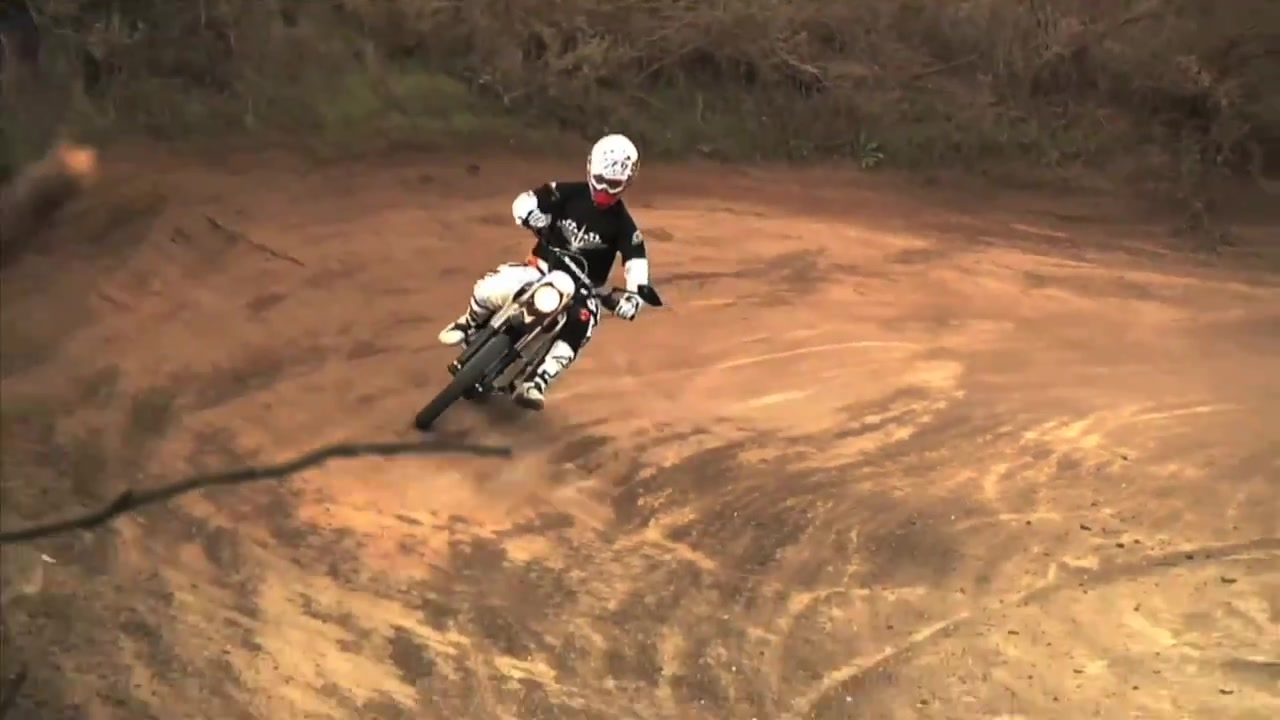motorbike: (415, 212, 669, 432)
